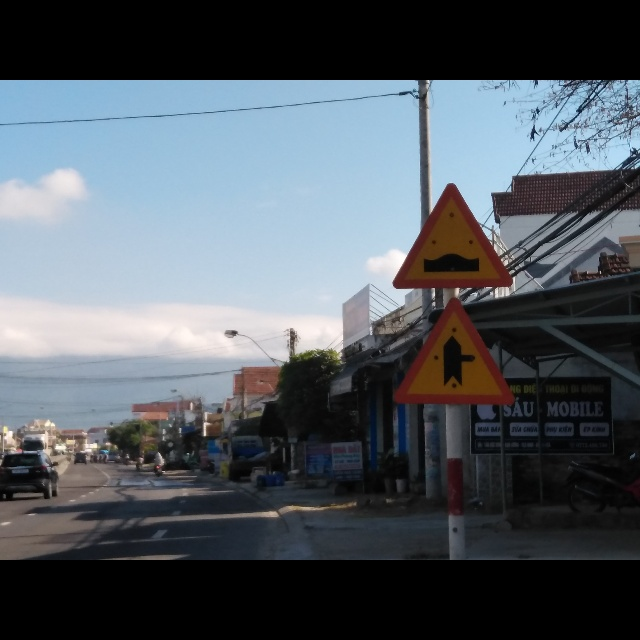Giao nhau với đường không ưu tiên: (395, 294, 516, 403)
Đường không bằng phẳng: (394, 179, 515, 290)
